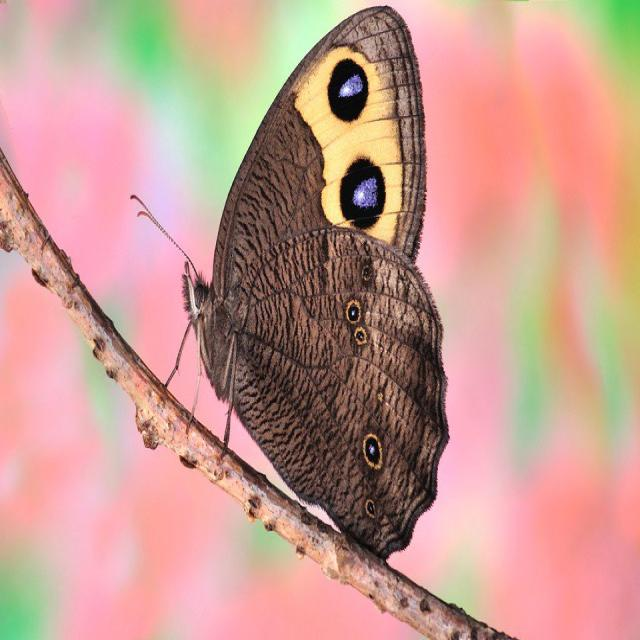butterfly: (166, 102, 453, 501)
